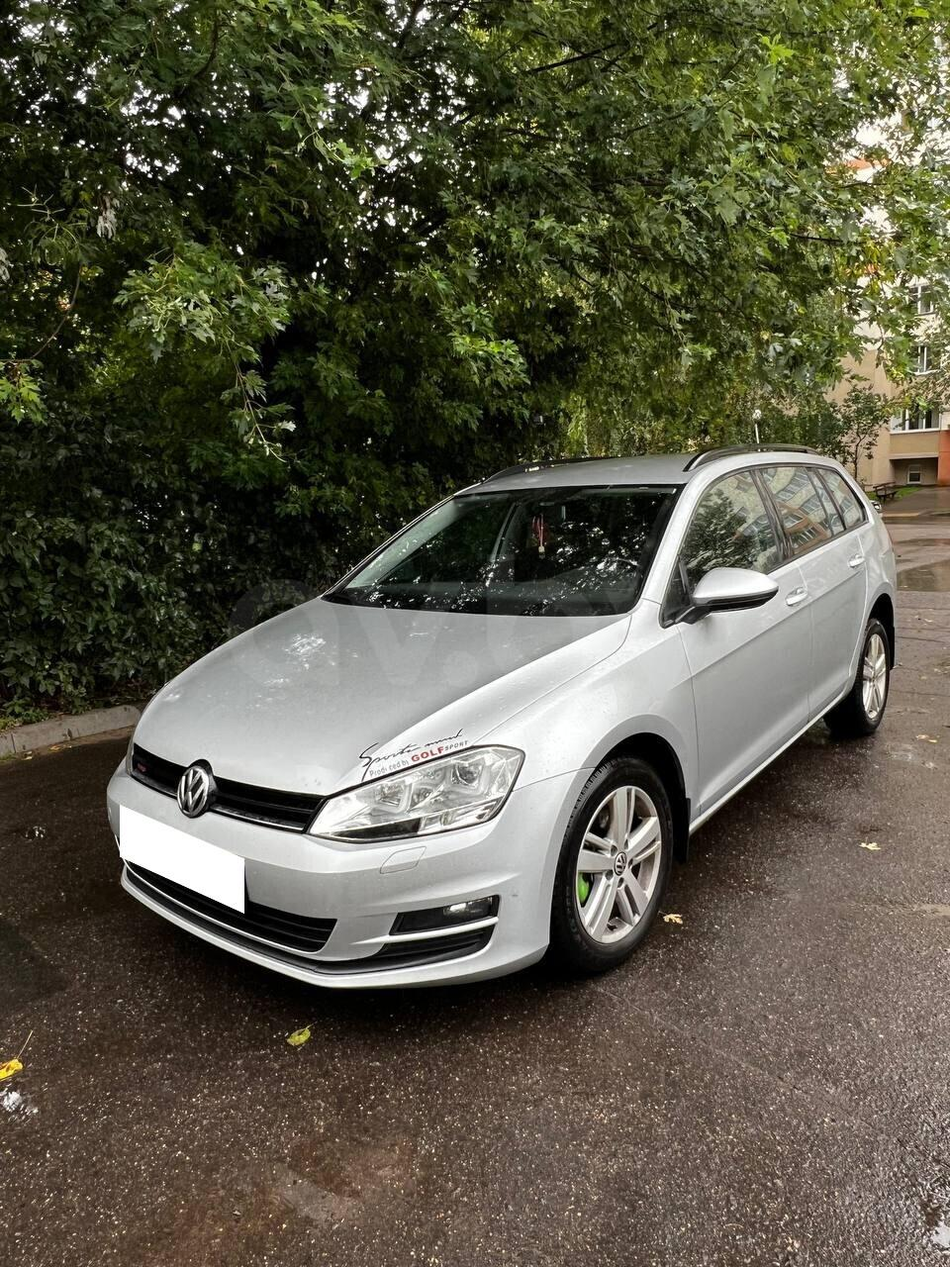Golf_2012-2017: (99, 431, 908, 978)
